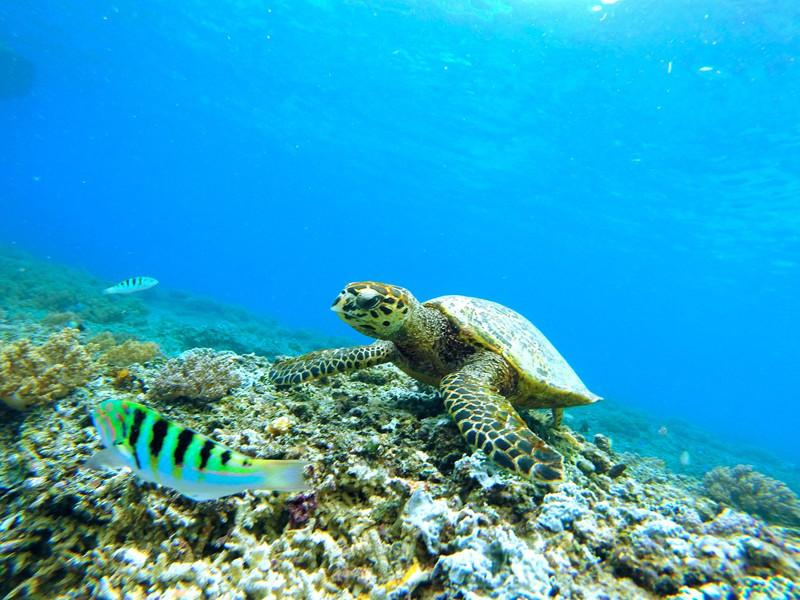turtle: (324, 267, 418, 342)
